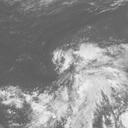cyclone: (49, 39, 127, 104)
